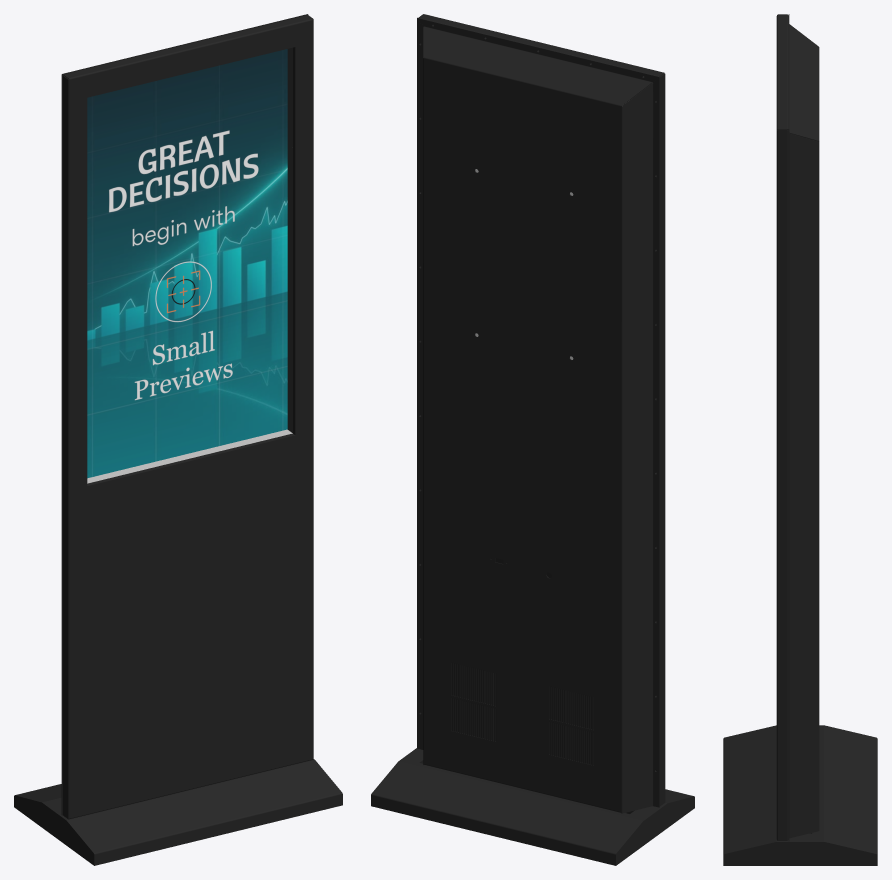
3 renders of one model, left to right at view 1: azimuth 30°, elevation 25°; view 2: azimuth 150°, elevation 25°; view 3: azimuth 270°, elevation 25°, orthographic. The views are drawn at different scales.
Parts seen in each view (by area): view 1: 32 Inch Totem - Assy, 32 Inch Totem - Assy.001; view 2: 32 Inch Totem - Assy; view 3: 32 Inch Totem - Assy.
Part boxes in pixels (x1,y1,x2,y2): 32 Inch Totem - Assy: [14, 14, 342, 865]; 32 Inch Totem - Assy.001: [87, 48, 292, 483]; 32 Inch Totem - Assy: [371, 14, 694, 865]; 32 Inch Totem - Assy: [723, 14, 877, 865].
Bounding box in the file's own units: 0.4654 × 1.37 × 0.26.
5 materials, 1 textured.
